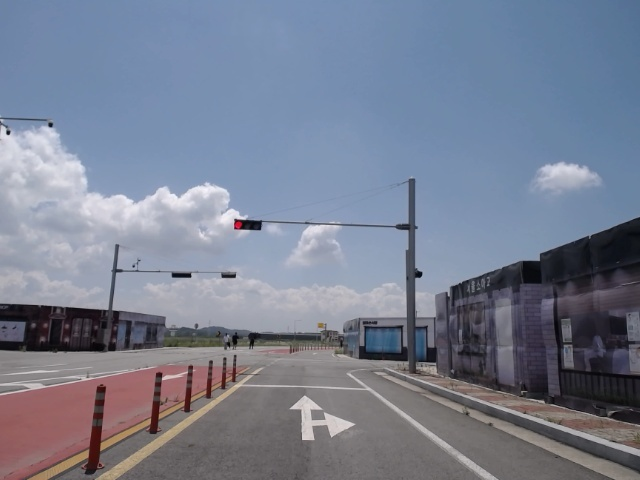red_3: (234, 218, 263, 232)
